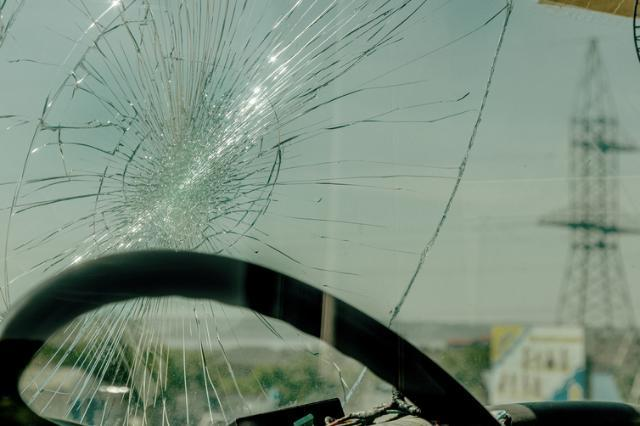Windshield: (0, 1, 640, 426)
